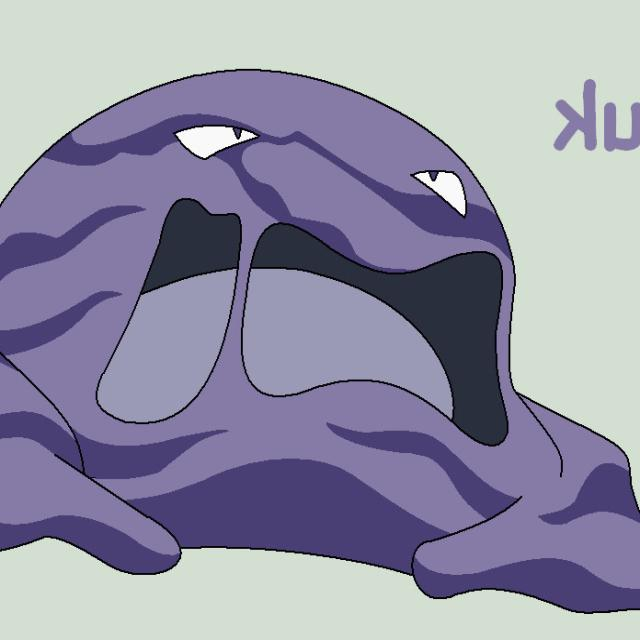Muk: (0, 70, 517, 540)
